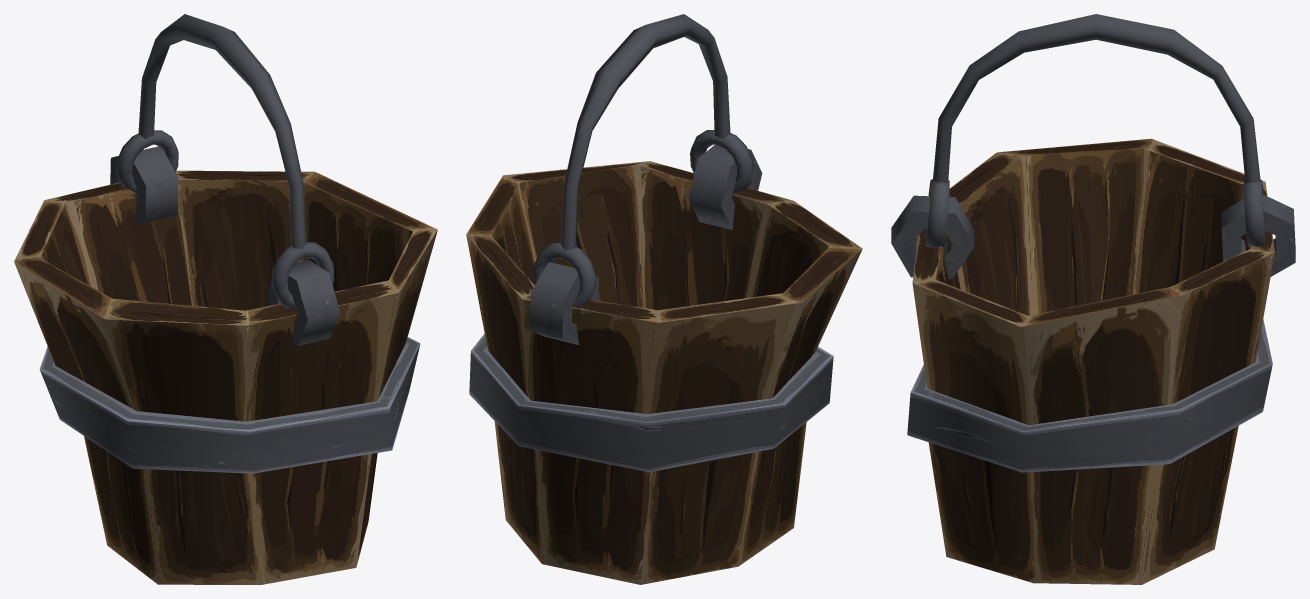
The model's file is SM_PROP_bucket_04.fbx.
The picture shows the model from 3 angles, left to right: view 1: azimuth 30°, elevation 25°; view 2: azimuth 150°, elevation 25°; view 3: azimuth 270°, elevation 25°; orthographic projection. The views are drawn at different scales.
Visible parts, largest first — view 1: SM_PROP_bucket_04, SM_PROP_bucket_04_handle; view 2: SM_PROP_bucket_04, SM_PROP_bucket_04_handle; view 3: SM_PROP_bucket_04, SM_PROP_bucket_04_handle.
Boxes of the visible parts, x1,y1,x2,y2 form: SM_PROP_bucket_04: [14, 146, 437, 584]; SM_PROP_bucket_04_handle: [116, 14, 334, 309]; SM_PROP_bucket_04: [466, 144, 862, 584]; SM_PROP_bucket_04_handle: [533, 14, 752, 305]; SM_PROP_bucket_04: [891, 138, 1295, 584]; SM_PROP_bucket_04_handle: [925, 14, 1265, 248].
Size of the model in its own units: 66.09 by 88.17 by 62.94.
